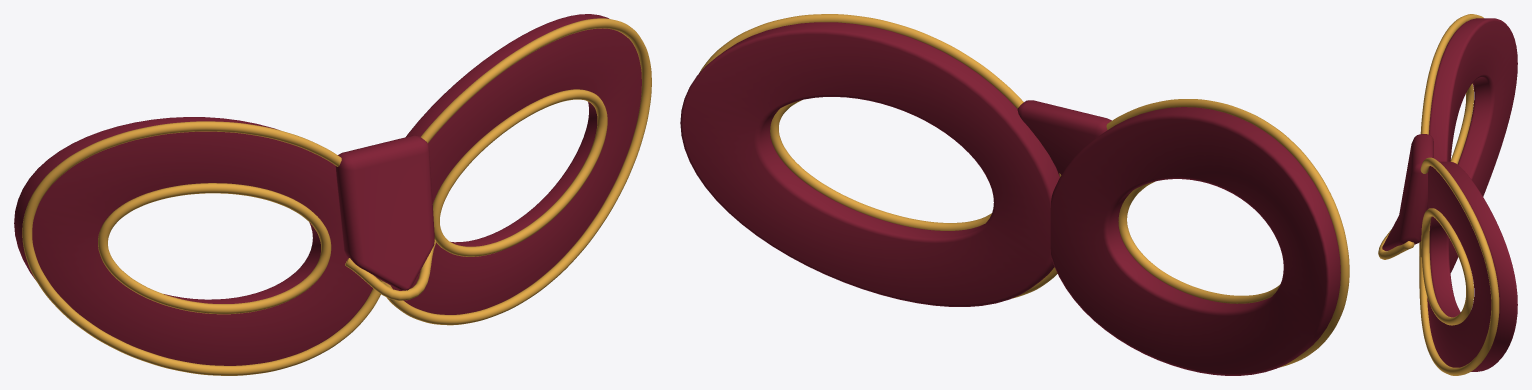
Rendered from SuperheroMask.glb.
3 renders of one model, left to right at view 1: azimuth 30°, elevation 25°; view 2: azimuth 150°, elevation 25°; view 3: azimuth 270°, elevation 25°, orthographic. The views are drawn at different scales.
Visible parts, largest first — view 1: Curved satin mask half, Curved satin mask half.001, Curved nose bridge, Outer gold piping, Outer gold piping.001, Eye opening gold piping, Eye opening gold piping.001, Nose bridge piping; view 2: Curved satin mask half.001, Curved satin mask half, Outer gold piping, Curved nose bridge, Outer gold piping.001, Eye opening gold piping.001, Eye opening gold piping; view 3: Curved satin mask half.001, Curved satin mask half, Outer gold piping.001, Curved nose bridge, Eye opening gold piping.001, Outer gold piping, Eye opening gold piping, Nose bridge piping.
Part boxes in pixels (x1,y1,x2,y2): Curved satin mask half: (14,117,372,365); Curved satin mask half.001: (390,14,641,314); Curved nose bridge: (335,135,434,290); Outer gold piping: (22,121,384,375); Outer gold piping.001: (377,18,651,325); Eye opening gold piping: (98,183,331,314); Eye opening gold piping.001: (432,89,607,256); Nose bridge piping: (345,239,436,300); Curved satin mask half.001: (680,22,1059,306); Curved satin mask half: (1050,107,1340,375); Outer gold piping: (1106,99,1349,367); Curved nose bridge: (1017,100,1111,174); Outer gold piping.001: (699,14,1061,298); Eye opening gold piping.001: (770,100,991,230); Eye opening gold piping: (1118,181,1280,303); Curved satin mask half.001: (1427,161,1517,371); Curved satin mask half: (1429,18,1517,272); Outer gold piping.001: (1419,157,1499,375); Curved nose bridge: (1382,134,1433,250); Eye opening gold piping.001: (1421,208,1473,325); Outer gold piping: (1419,14,1483,256); Eye opening gold piping: (1450,83,1473,164); Nose bridge piping: (1378,229,1414,259).
Size of the model in its own units: 0.5659 by 0.2237 by 0.1359.
